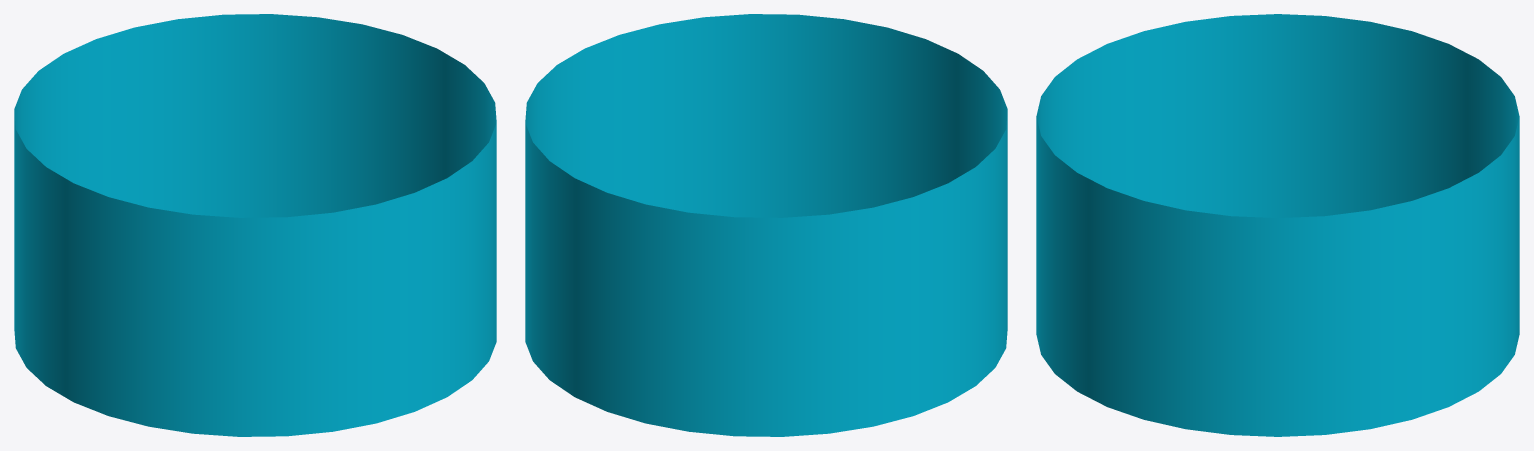
3 renders of one model, left to right at view 1: azimuth 30°, elevation 25°; view 2: azimuth 150°, elevation 25°; view 3: azimuth 270°, elevation 25°, orthographic.
Parts seen in each view (by area): view 1: Cylinder001; view 2: Cylinder001; view 3: Cylinder001.
Boxes of the visible parts, x1=… form: Cylinder001: x1=14, y1=14, x2=496, y2=436; Cylinder001: x1=525, y1=14, x2=1007, y2=436; Cylinder001: x1=1036, y1=14, x2=1519, y2=436.
Bounding box in the file's own units: 2 × 1 × 2.
Materials: 1 (1 with a texture image).
